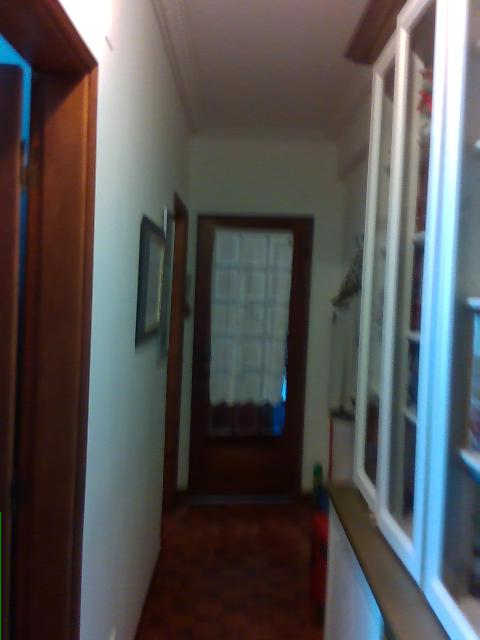door: (1, 2, 100, 640), (188, 214, 315, 494)
